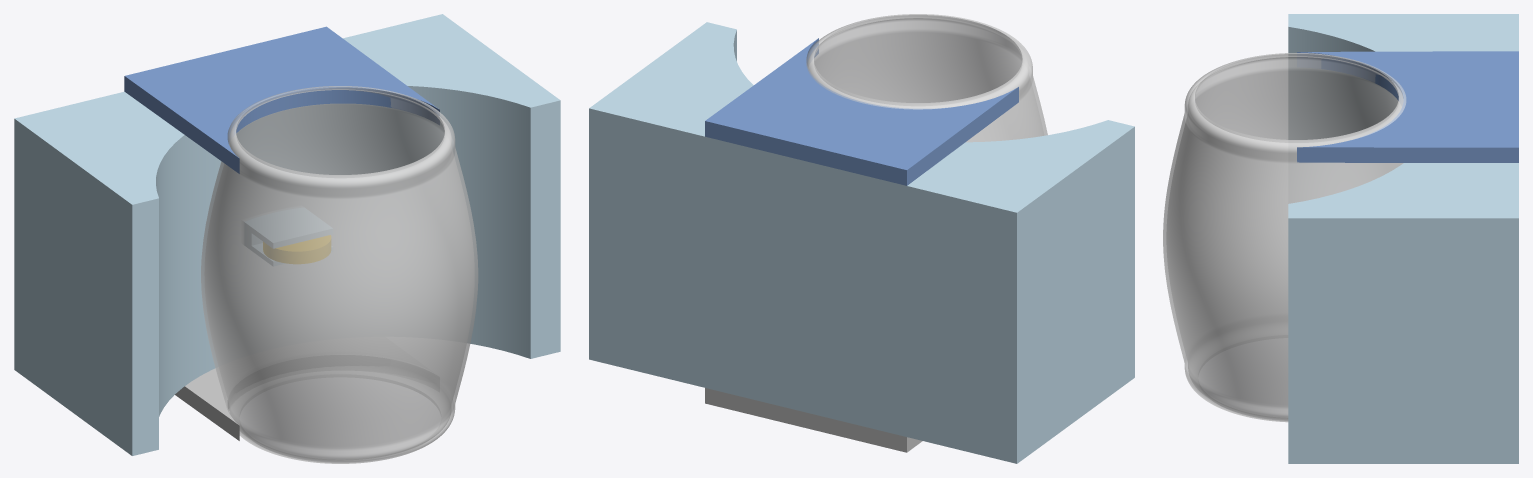
File: FresnelLens.gltf
3 views of the same model, side by side, from view 1: azimuth 30°, elevation 25°; view 2: azimuth 150°, elevation 25°; view 3: azimuth 270°, elevation 25° (orthographic). The views are drawn at different scales.
Parts seen in each view (by area): view 1: mesh3_meshnode_3, mesh12_meshnode_12, mesh41_meshnode_41, mesh43_meshnode_43, mesh45_meshnode_45, mesh27_meshnode_27, mesh40_meshnode_40, mesh42_meshnode_42, mesh7_meshnode_7, mesh26_meshnode_26, mesh16_meshnode_16, mesh13_meshnode_13 (+16 smaller); view 2: mesh38_meshnode_38, mesh43_meshnode_43, mesh45_meshnode_45, mesh27_meshnode_27, mesh3_meshnode_3, mesh12_meshnode_12, mesh7_meshnode_7, mesh24_meshnode_24, mesh30_meshnode_30, mesh16_meshnode_16, mesh13_meshnode_13, mesh25_meshnode_25 (+3 smaller); view 3: mesh39_meshnode_39, mesh3_meshnode_3, mesh12_meshnode_12, mesh45_meshnode_45, mesh27_meshnode_27, mesh41_meshnode_41, mesh7_meshnode_7, mesh23_meshnode_23, mesh16_meshnode_16, mesh13_meshnode_13, mesh4_meshnode_4, mesh26_meshnode_26 (+7 smaller).
Part boxes in pixels (x1,y1,x2,y2): mesh3_meshnode_3: [201, 104, 478, 448]; mesh12_meshnode_12: [204, 104, 474, 445]; mesh41_meshnode_41: [156, 86, 530, 416]; mesh43_meshnode_43: [14, 119, 132, 455]; mesh45_meshnode_45: [14, 14, 559, 204]; mesh27_meshnode_27: [125, 26, 438, 157]; mesh40_meshnode_40: [530, 100, 560, 358]; mesh42_meshnode_42: [132, 198, 158, 455]; mesh7_meshnode_7: [227, 86, 455, 188]; mesh26_meshnode_26: [227, 87, 439, 143]; mesh16_meshnode_16: [229, 89, 451, 186]; mesh13_meshnode_13: [240, 98, 451, 195]; mesh38_meshnode_38: [589, 108, 1016, 463]; mesh43_meshnode_43: [1017, 127, 1134, 463]; mesh45_meshnode_45: [589, 22, 1134, 212]; mesh27_meshnode_27: [705, 39, 1017, 169]; mesh3_meshnode_3: [814, 30, 1047, 142]; mesh12_meshnode_12: [814, 32, 1043, 141]; mesh7_meshnode_7: [806, 14, 1032, 109]; mesh24_meshnode_24: [705, 121, 906, 185]; mesh30_meshnode_30: [705, 388, 906, 452]; mesh16_meshnode_16: [807, 17, 1028, 108]; mesh13_meshnode_13: [814, 21, 1028, 95]; mesh25_meshnode_25: [907, 87, 1018, 185]; mesh39_meshnode_39: [1288, 218, 1518, 463]; mesh3_meshnode_3: [1163, 69, 1403, 406]; mesh12_meshnode_12: [1166, 71, 1402, 404]; mesh45_meshnode_45: [1288, 14, 1518, 218]; mesh27_meshnode_27: [1301, 51, 1518, 147]; mesh41_meshnode_41: [1288, 27, 1397, 139]; mesh7_meshnode_7: [1184, 53, 1406, 153]; mesh23_meshnode_23: [1297, 147, 1518, 162]; mesh16_meshnode_16: [1188, 56, 1403, 151]; mesh13_meshnode_13: [1188, 60, 1375, 159]; mesh4_meshnode_4: [1184, 59, 1320, 161]; mesh26_meshnode_26: [1297, 52, 1403, 105].
Size of the model in its own units: 0.3624 by 0.2337 by 0.2669.
